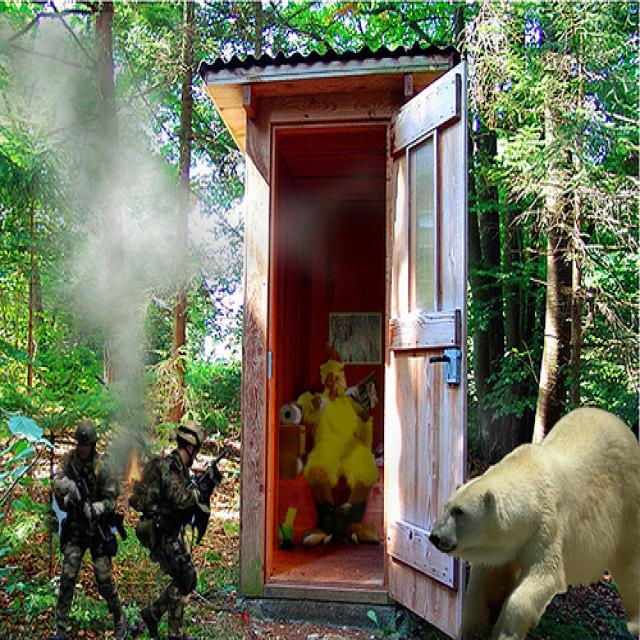Bear: (425, 393, 640, 640)
